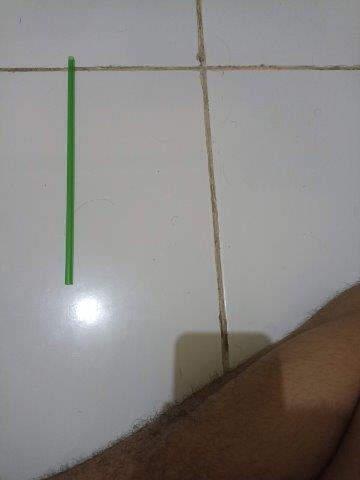sedotan: (65, 56, 75, 284)
